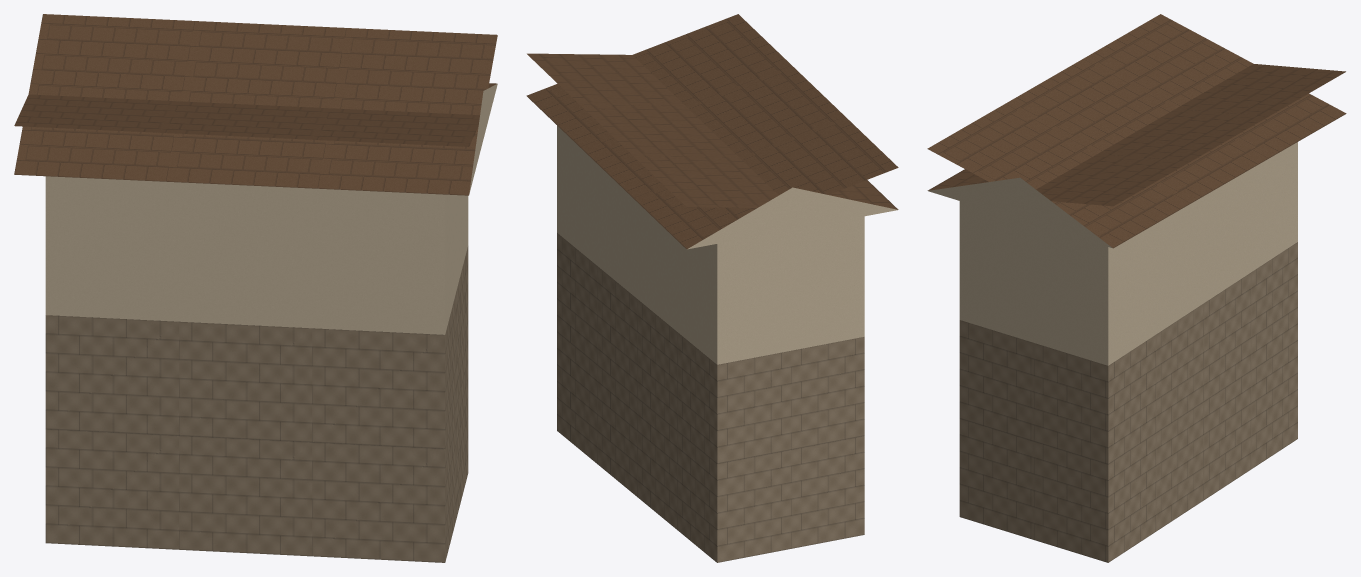
The model's file is bld_c39_33_292.gltf.
3 views of the same model, side by side, from view 1: azimuth 30°, elevation 25°; view 2: azimuth 150°, elevation 25°; view 3: azimuth 270°, elevation 25° (orthographic). The views are drawn at different scales.
Parts seen in each view (by area): view 1: bld_c39_33_292; view 2: bld_c39_33_292; view 3: bld_c39_33_292.
Boxes of the visible parts, x1,y1,x2,y2 form: bld_c39_33_292: [14, 14, 497, 562]; bld_c39_33_292: [526, 14, 898, 562]; bld_c39_33_292: [927, 14, 1346, 562].
Bounding box in the file's own units: 9.81 × 8.8 × 9.04.
Materials: 4 (4 with a texture image).
